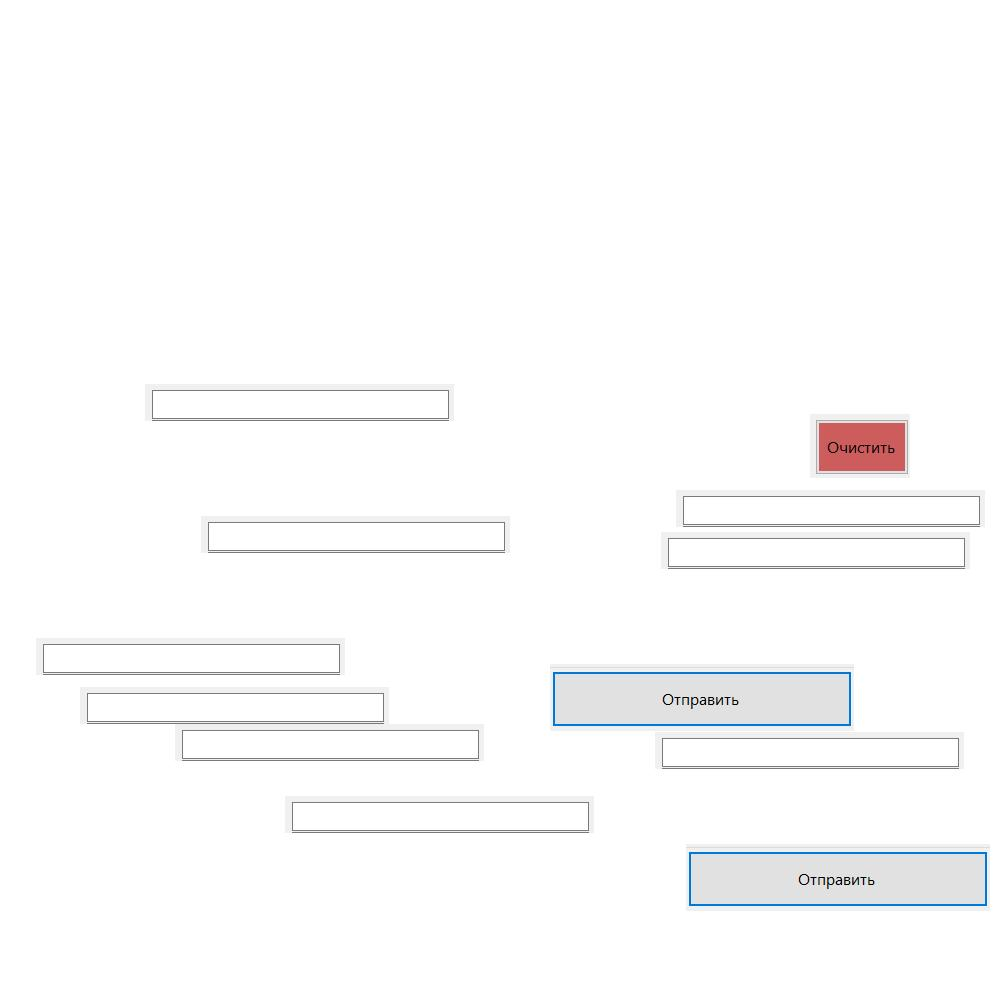Button: (686, 844, 990, 911), (550, 664, 854, 731), (810, 414, 910, 478)
EditText-: (80, 687, 389, 724), (201, 516, 510, 553), (175, 724, 484, 761), (655, 732, 964, 769), (285, 796, 594, 833), (36, 638, 345, 675), (676, 490, 985, 527), (661, 532, 970, 569), (145, 384, 454, 421)
